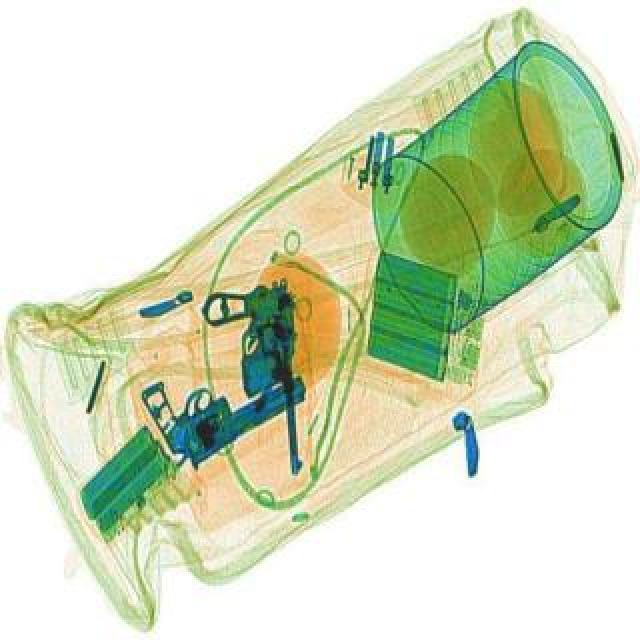gun: (134, 326, 320, 474), (200, 282, 318, 484)
